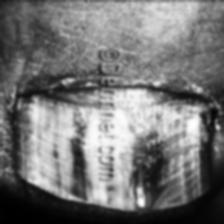Toxin: (118, 81, 224, 210), (13, 68, 100, 204)
